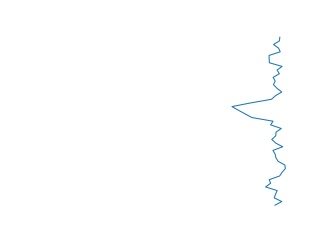interdistributaryEstuary: (228, 36, 289, 207)
